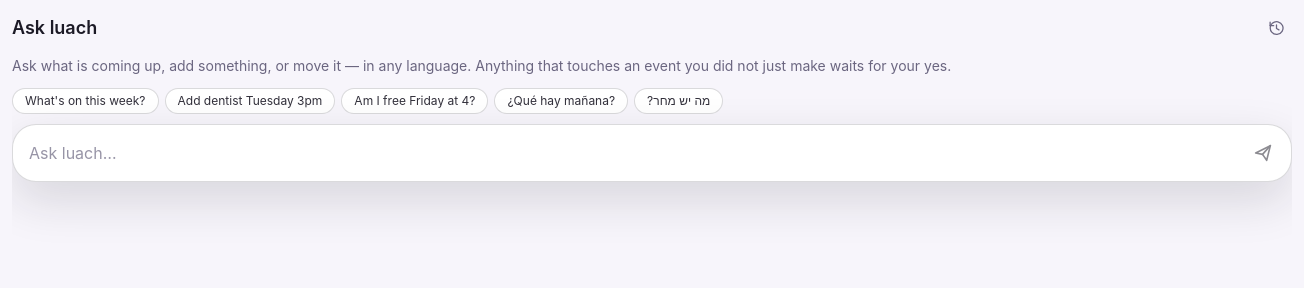
Test: the conversations a member has already had › opens one and shows the turns the server kept
Click the button named "Earlier conversations": click(1276, 28) [1260,12,1292,44]
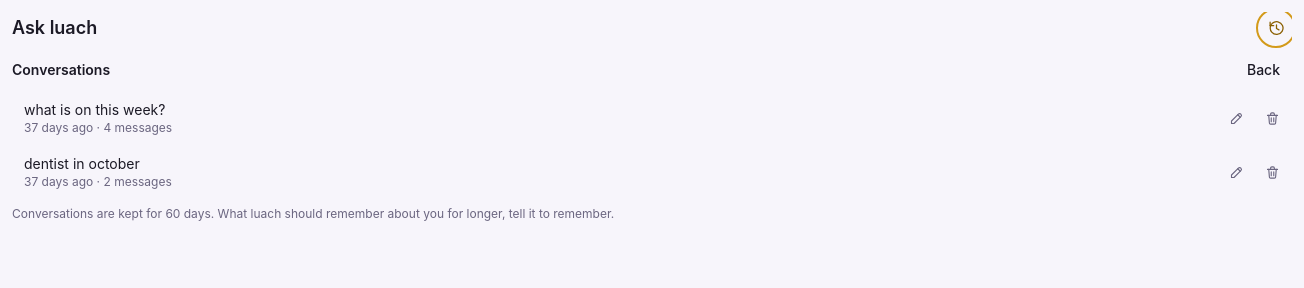
Click the button with aria-label "Open what is on this week?": click(95, 110) [16,92,1216,144]
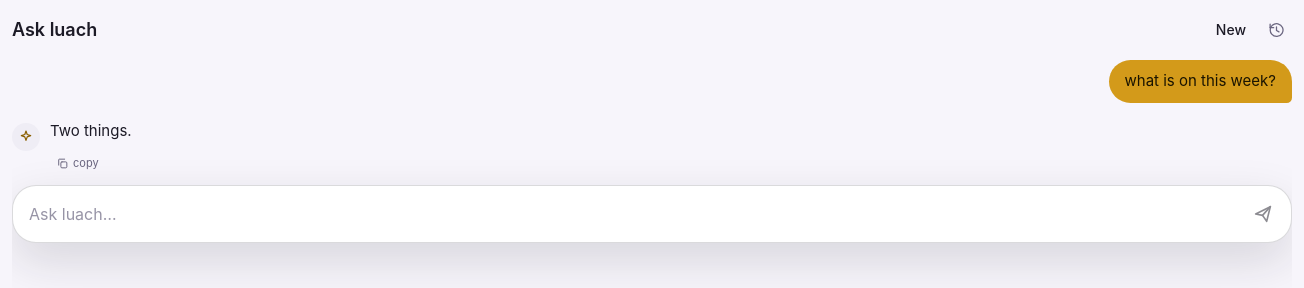
Now the text "Two things." is shown, box [50,120,132,140]
Now the heading "Conversations" is gone
